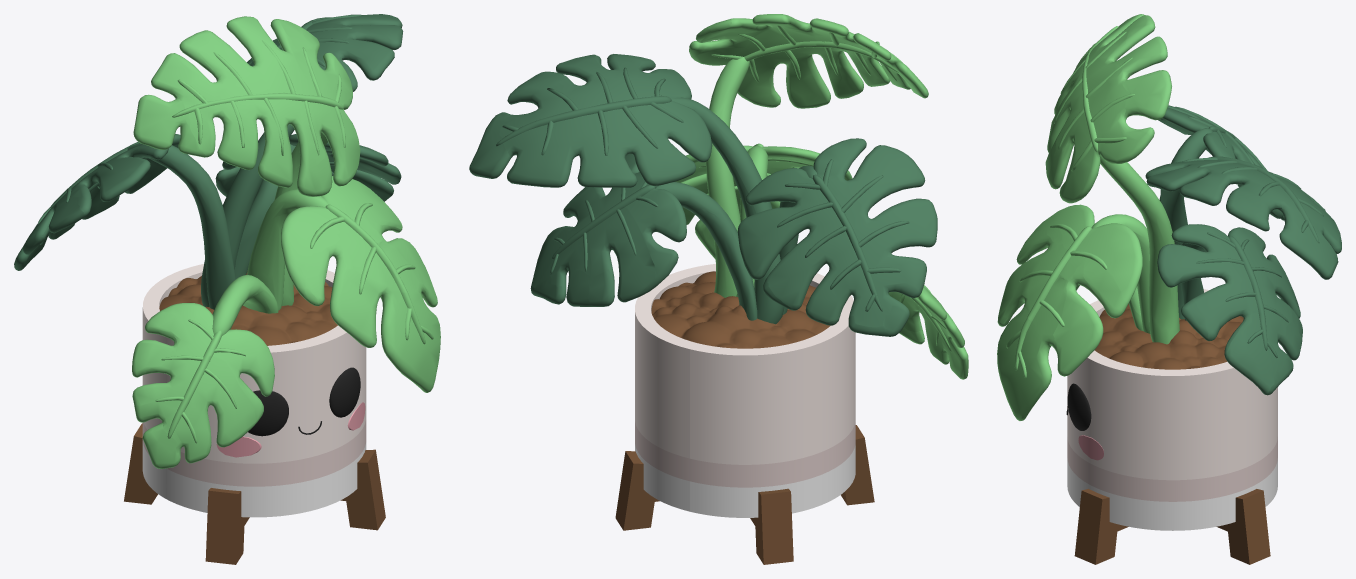
The model's file is monstera.glb.
3 renders of one model, left to right at view 1: azimuth 30°, elevation 25°; view 2: azimuth 150°, elevation 25°; view 3: azimuth 270°, elevation 25°, orthographic. The views are drawn at different scales.
Visible parts, largest first — view 1: Group64305 (×15), object 126, Group1579 (×3), object 131, object 132, object 125, object 124, object 129; view 2: Group64305 (×13), object 126, Group1579, object 131, object 132, object 124, object 125; view 3: Group64305 (×14), object 126, Group1579 (×2), object 131, object 132, object 124, object 125, object 129.
Part boxes in pixels (<box>): Group64305 (×15): <box>14,14,440,468</box>; object 126: <box>142,264,366,463</box>; Group1579 (×3): <box>159,271,360,436</box>; object 131: <box>142,441,366,517</box>; object 132: <box>142,420,366,486</box>; object 125: <box>124,423,385,530</box>; object 124: <box>205,488,249,564</box>; object 129: <box>216,402,365,457</box>; Group64305 (×13): <box>469,14,968,379</box>; object 126: <box>635,263,855,464</box>; Group1579: <box>651,271,830,348</box>; object 131: <box>635,444,855,517</box>; object 132: <box>635,422,855,487</box>; object 124: <box>615,425,874,530</box>; object 125: <box>750,488,793,564</box>; Group64305 (×14): <box>997,14,1341,420</box>; object 126: <box>1067,289,1277,480</box>; Group1579 (×2): <box>1067,304,1243,430</box>; object 131: <box>1067,458,1277,530</box>; object 132: <box>1067,437,1277,501</box>; object 124: <box>1216,489,1270,564</box>; object 125: <box>1074,488,1128,564</box>; object 129: <box>1078,435,1103,460</box>.
Size of the model in its own units: 3.4 by 4.07 by 2.69.
